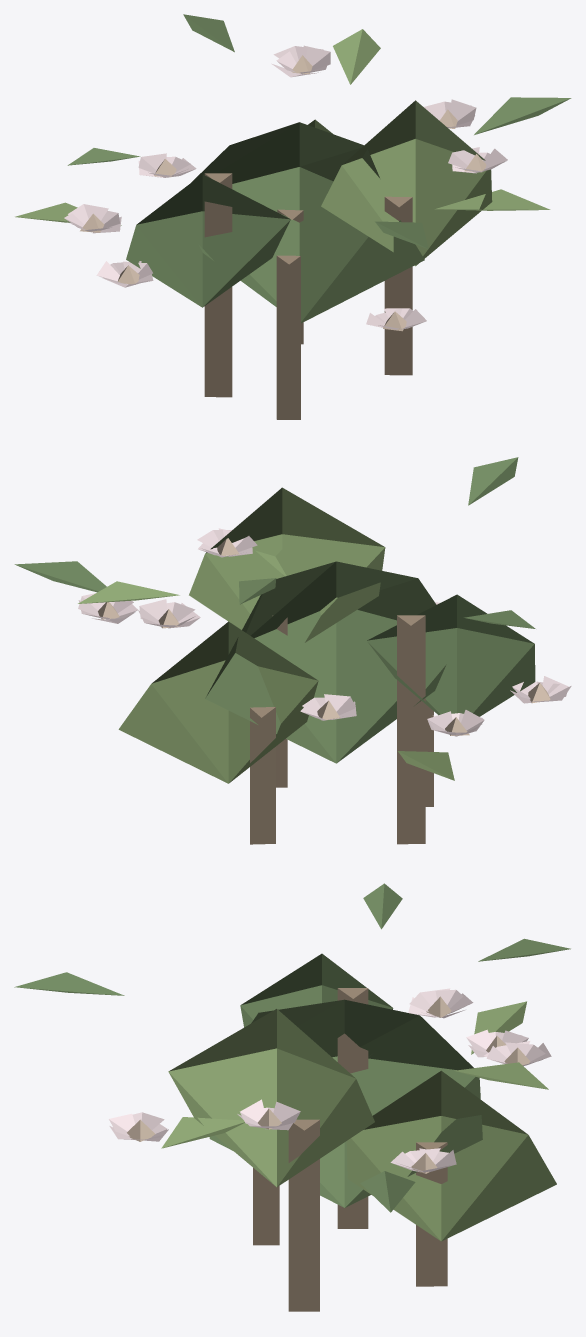
File: guan.moli__summer.glb
3 views of the same model, one above another, from view 1: azimuth 30°, elevation 25°; view 2: azimuth 150°, elevation 25°; view 3: azimuth 270°, elevation 25° (orthographic). The views are drawn at different scales.
Visible parts, largest first — view 1: guan.moli__summer; view 2: guan.moli__summer; view 3: guan.moli__summer.
Boxes of the visible parts, left/top/right/bottom form: guan.moli__summer: left=15, top=14, right=571, bottom=419; guan.moli__summer: left=14, top=457, right=571, bottom=844; guan.moli__summer: left=14, top=883, right=570, bottom=1311.
Size of the model in its own units: 2.34 by 1.31 by 2.06.
